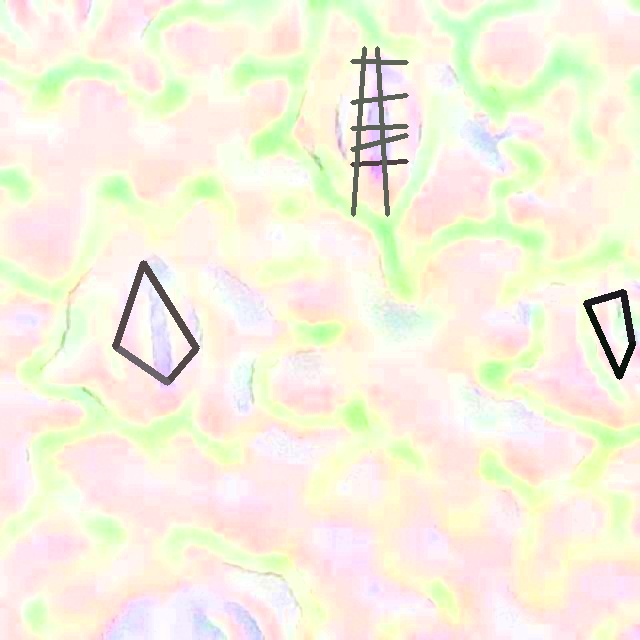open: (112, 260, 199, 385), (350, 47, 408, 215), (583, 289, 635, 379)
